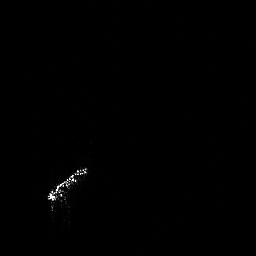ship: (47, 166, 89, 214)
